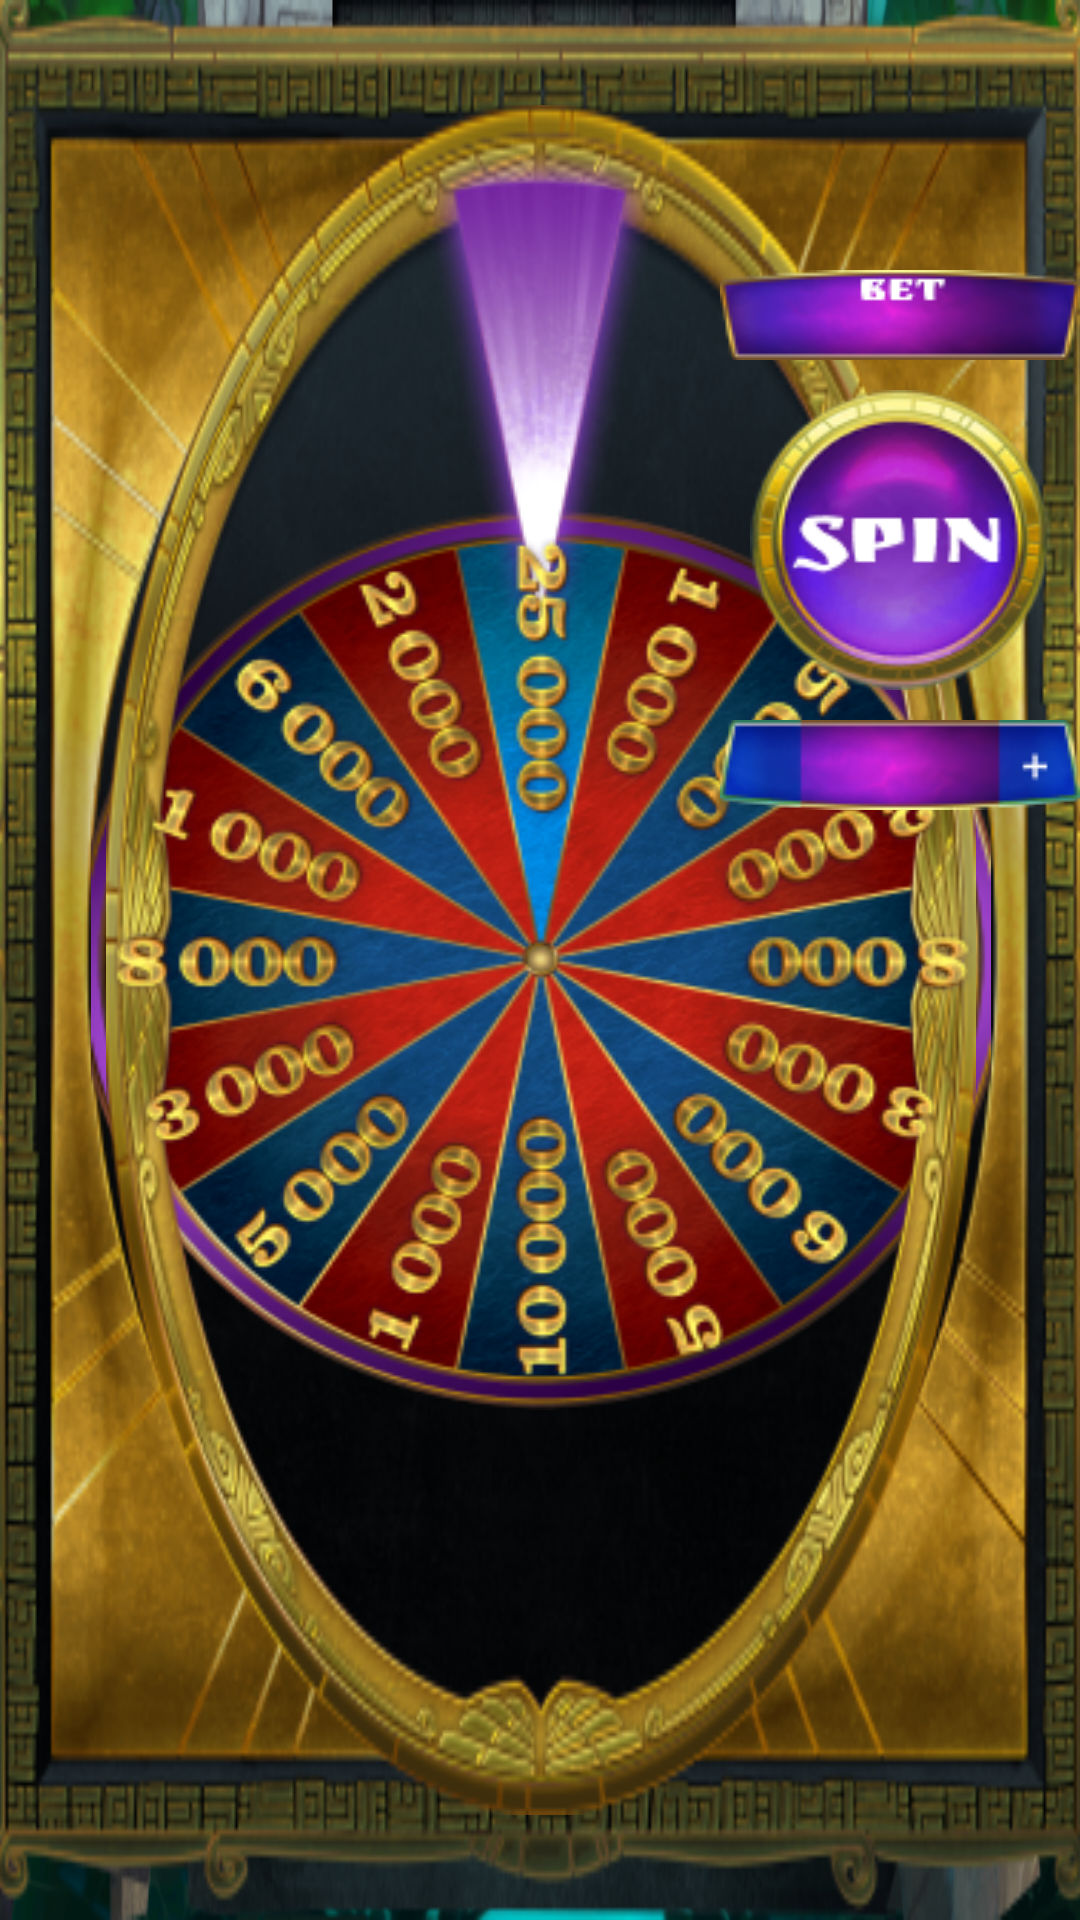

Named icons in this screenshot (1080*1920) and their centers, point (x, y):
plus: point (1035, 765)
